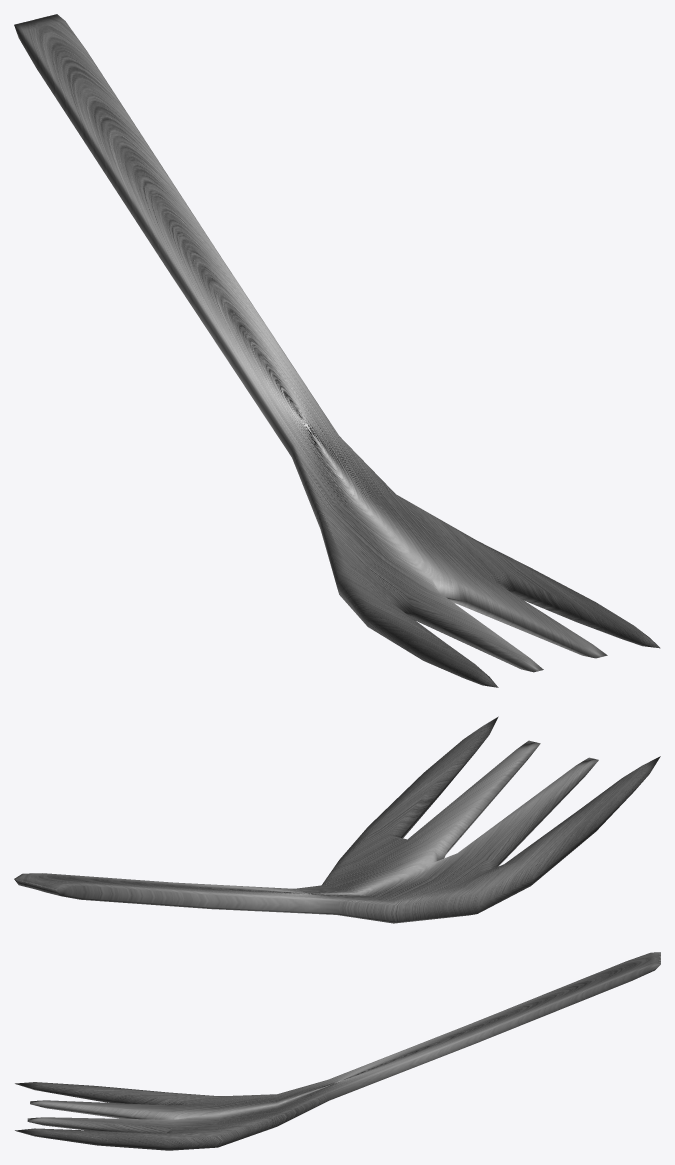
Rendered from fork.fbx.
3 views of the same model, one above another, from view 1: azimuth 30°, elevation 25°; view 2: azimuth 150°, elevation 25°; view 3: azimuth 270°, elevation 25° (orthographic). The views are drawn at different scales.
Visible parts, largest first — view 1: fork; view 2: fork; view 3: fork.
Boxes of the visible parts, x1,y1,x2,y2 form: fork: (14, 14, 660, 687); fork: (14, 716, 660, 923); fork: (15, 952, 660, 1150).
Size of the model in its own units: 0.5788 by 0.8934 by 3.05.
